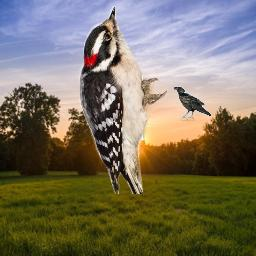Crow: (173, 86, 211, 121)
Woodpecker: (79, 6, 167, 194)
